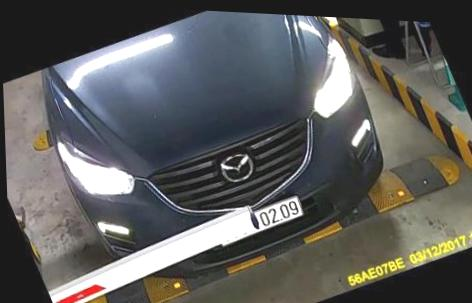License_Plate: (215, 187, 309, 251)
